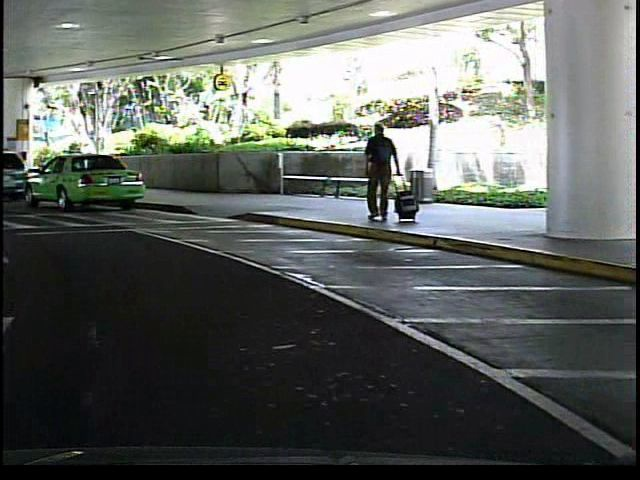person: (358, 115, 404, 230)
